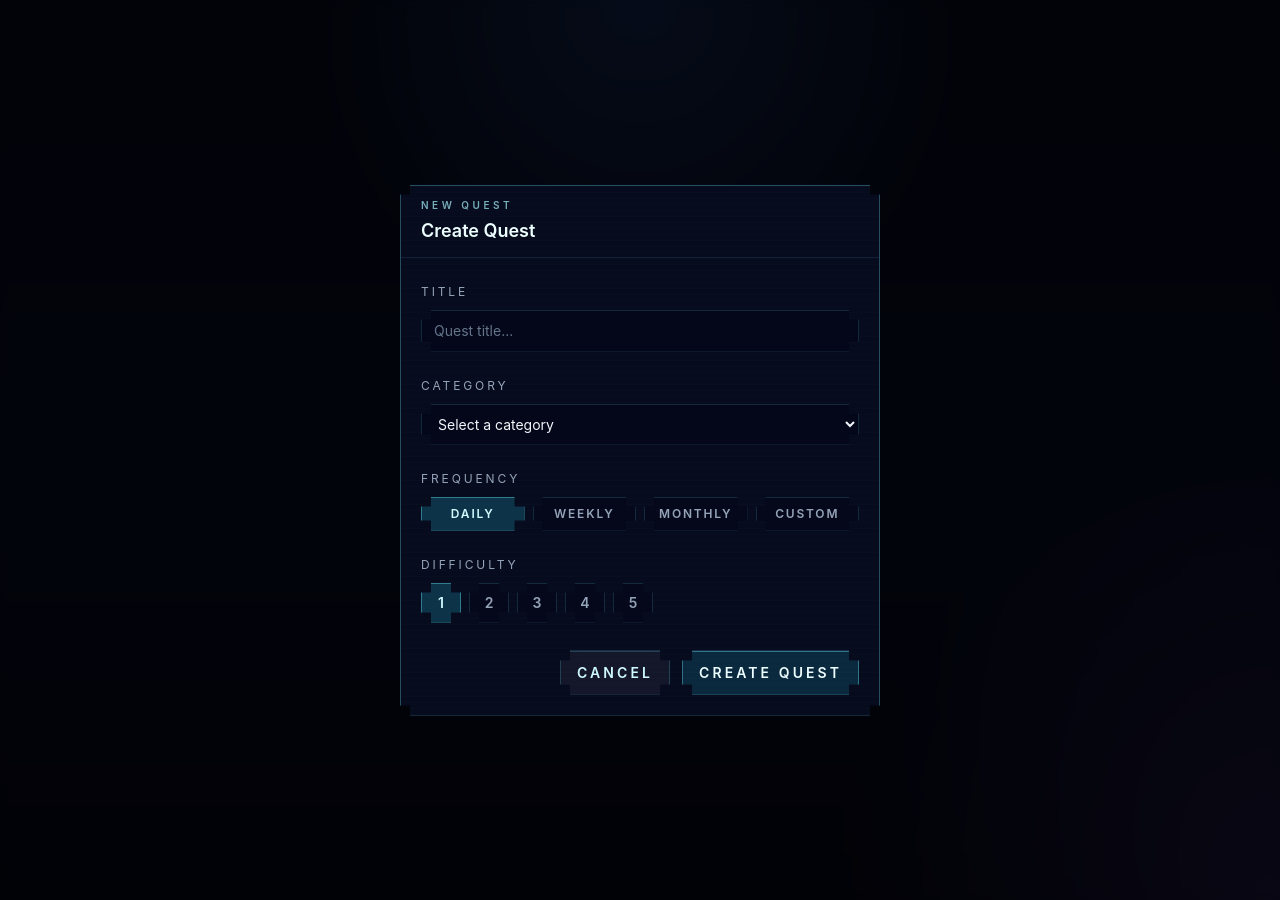
Test case: QuestCreateModal › shows custom fields when Custom frequency is selected
Click the button with test id "frequency-button".
click(807, 514)  # box x1=756 y1=496 x2=859 y2=530
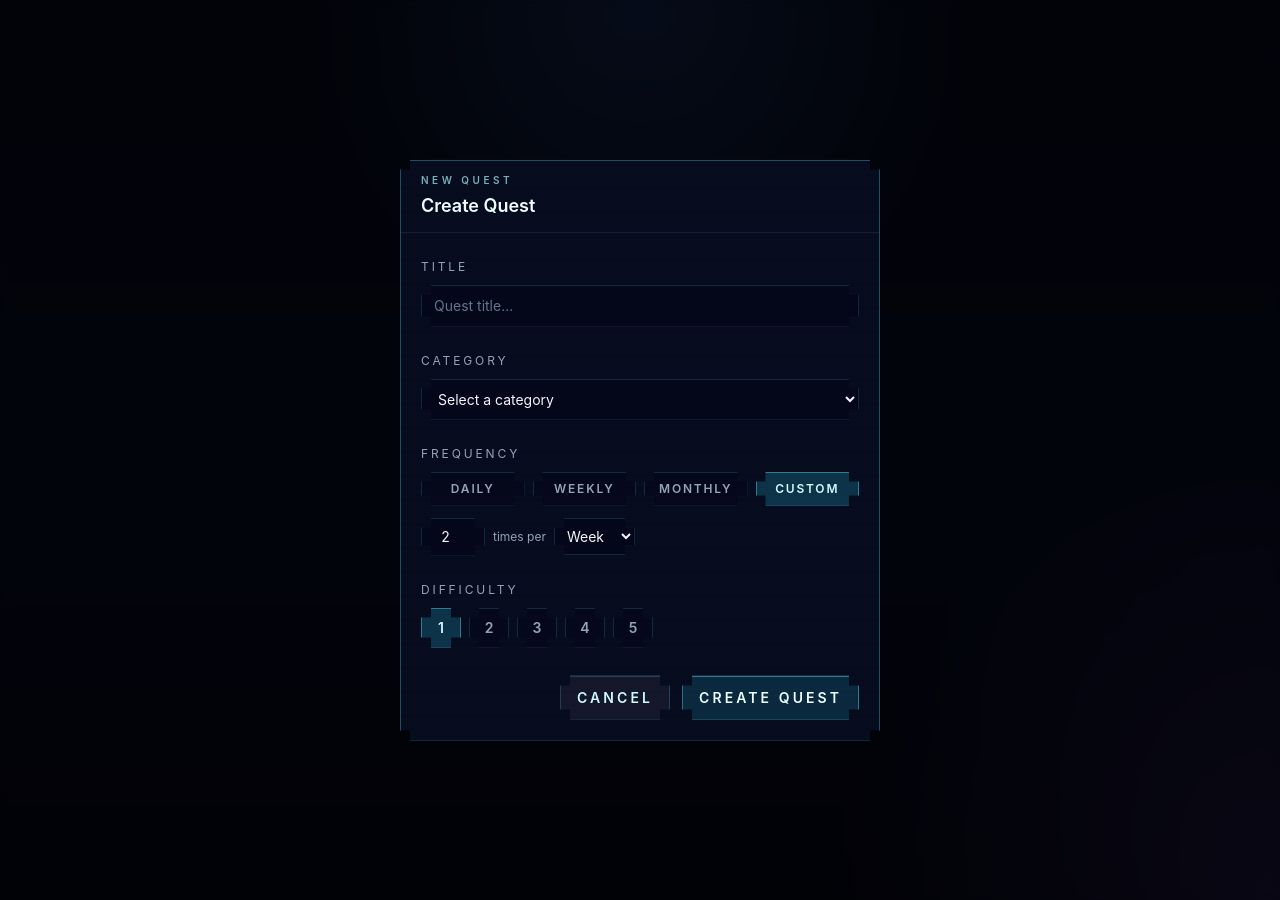
Check: the number field with test id "custom-target" is shown, box x1=421 y1=518 x2=485 y2=556
Check: the dropdown with test id "custom-period" is shown, box x1=554 y1=518 x2=635 y2=555
